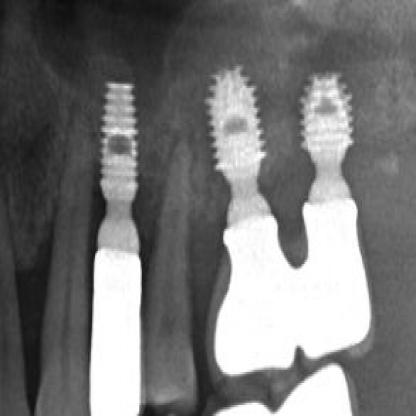Bicon: (205, 70, 265, 186), (98, 75, 141, 212), (303, 66, 351, 160)
